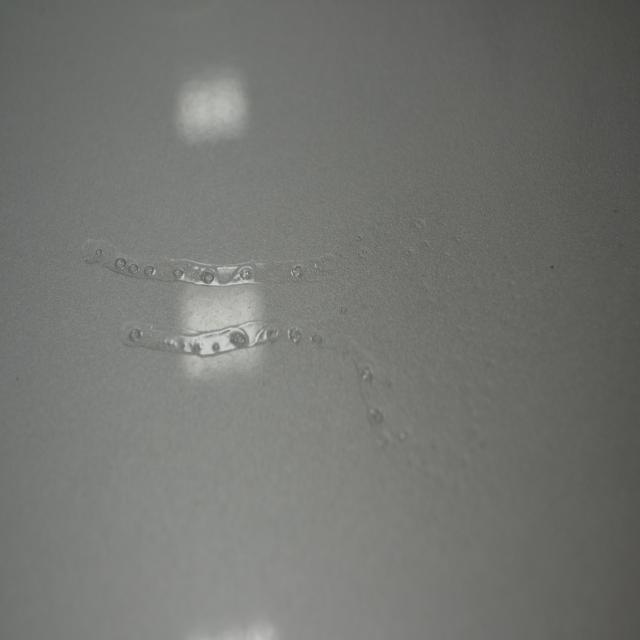runs: (82, 195, 526, 491)
